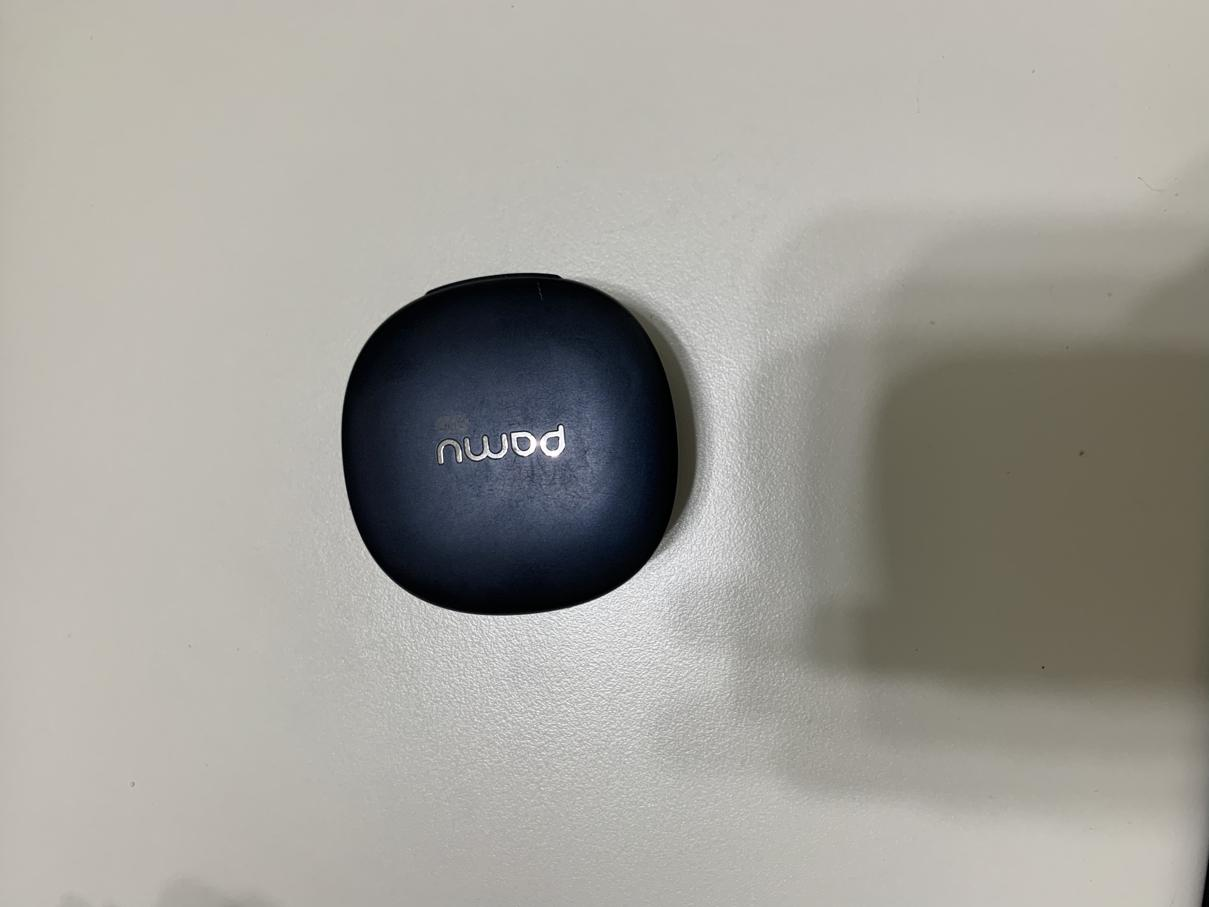pami: (341, 270, 681, 618)
